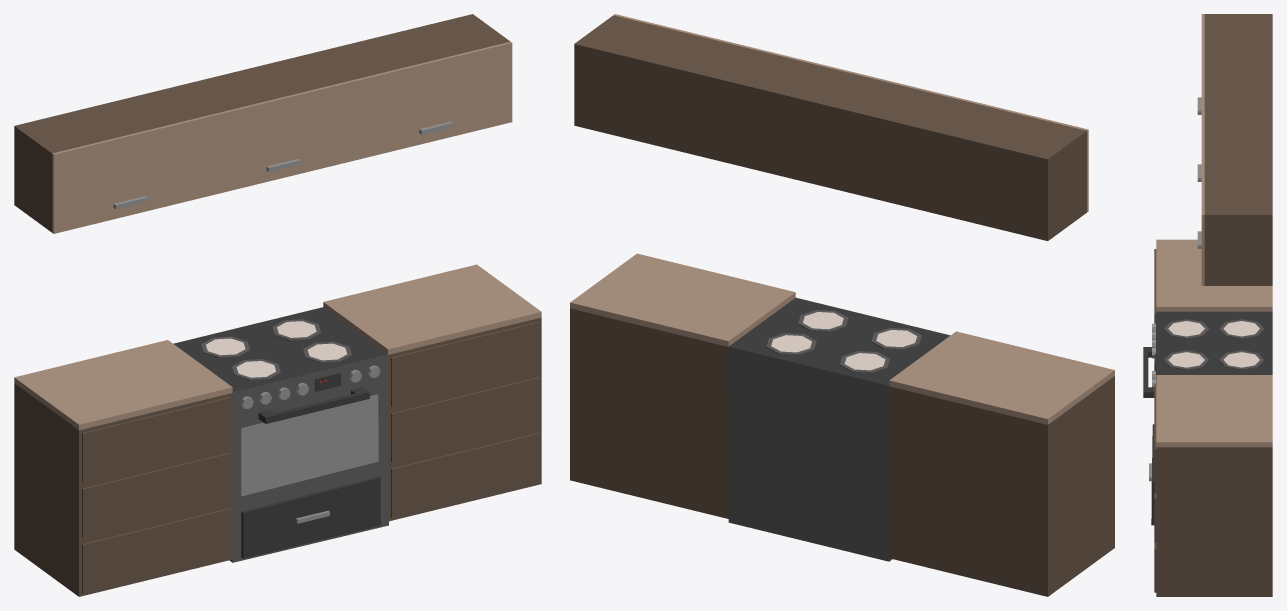
The model's file is Kitchen_set_8.fbx.
3 views of the same model, side by side, from view 1: azimuth 30°, elevation 25°; view 2: azimuth 150°, elevation 25°; view 3: azimuth 270°, elevation 25° (orthographic). The views are drawn at different scales.
Visible parts, largest first — view 1: Kitchen_set_8; view 2: Kitchen_set_8; view 3: Kitchen_set_8.
Part boxes in pixels (x1,y1,x2,y2): Kitchen_set_8: [14, 14, 541, 596]; Kitchen_set_8: [570, 14, 1114, 596]; Kitchen_set_8: [1143, 14, 1272, 596].
Size of the model in its own units: 310 by 83.49 by 273.
